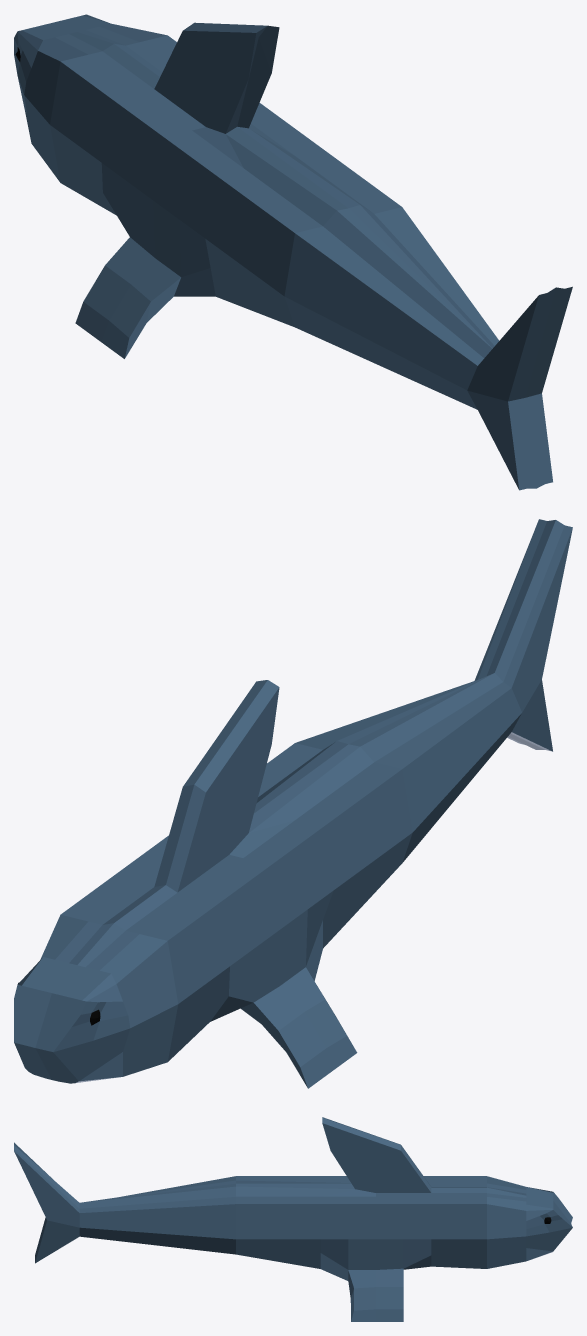
Rendered from shark.fbx.
3 views of the same model, one above another, from view 1: azimuth 30°, elevation 25°; view 2: azimuth 150°, elevation 25°; view 3: azimuth 270°, elevation 25° (orthographic). The views are drawn at different scales.
Parts seen in each view (by area): view 1: shark; view 2: shark; view 3: shark.
Part boxes in pixels (box(x1,y1,x2,y2)): shark: box(14, 14, 572, 490); shark: box(14, 519, 572, 1088); shark: box(14, 1117, 572, 1321).
Size of the model in its own units: 2101 by 2802 by 8165.
